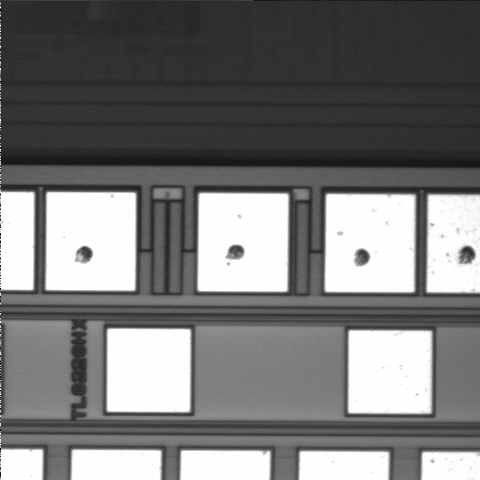pad: (46, 192, 136, 291), (198, 193, 288, 292), (325, 194, 415, 292), (107, 329, 191, 412), (348, 330, 432, 413)
